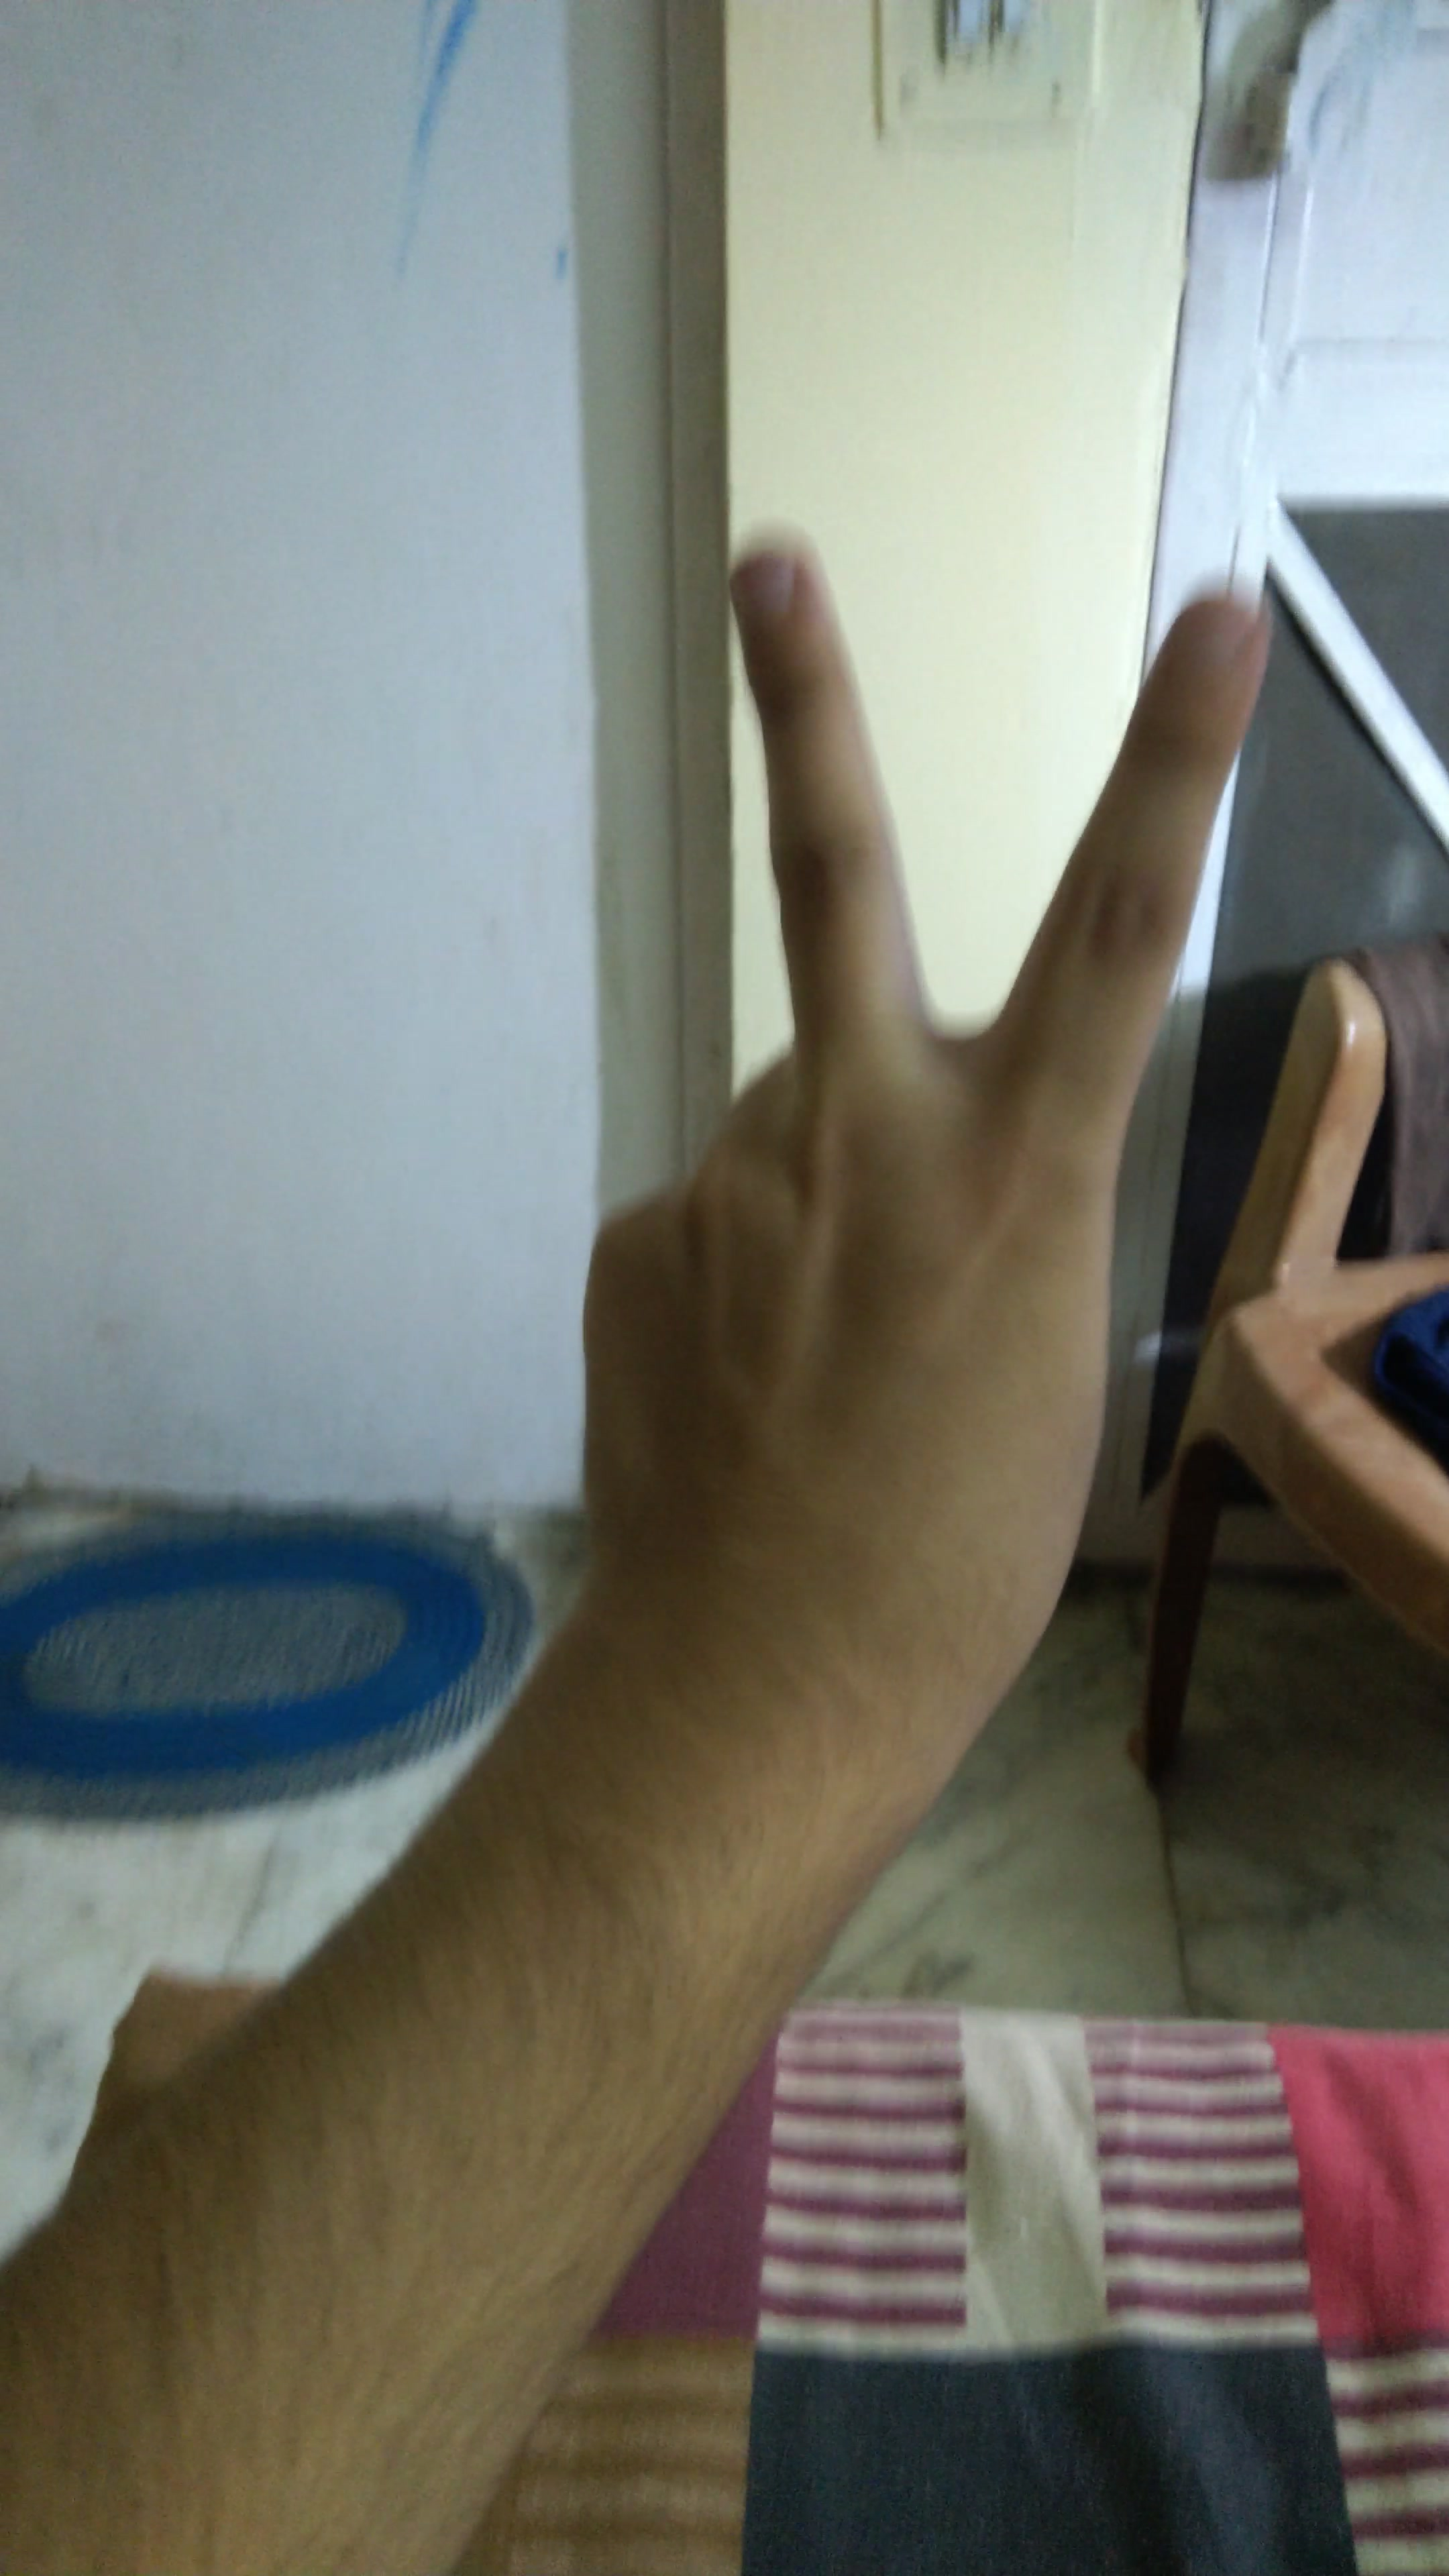hand: (423, 474, 1265, 1829)
